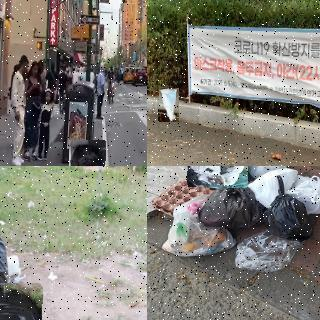Garbage: (160, 197, 237, 256), (265, 177, 317, 243), (251, 169, 320, 216), (233, 234, 309, 274), (201, 180, 267, 226), (187, 166, 248, 187), (68, 140, 105, 166), (159, 88, 179, 122), (247, 166, 291, 175)
